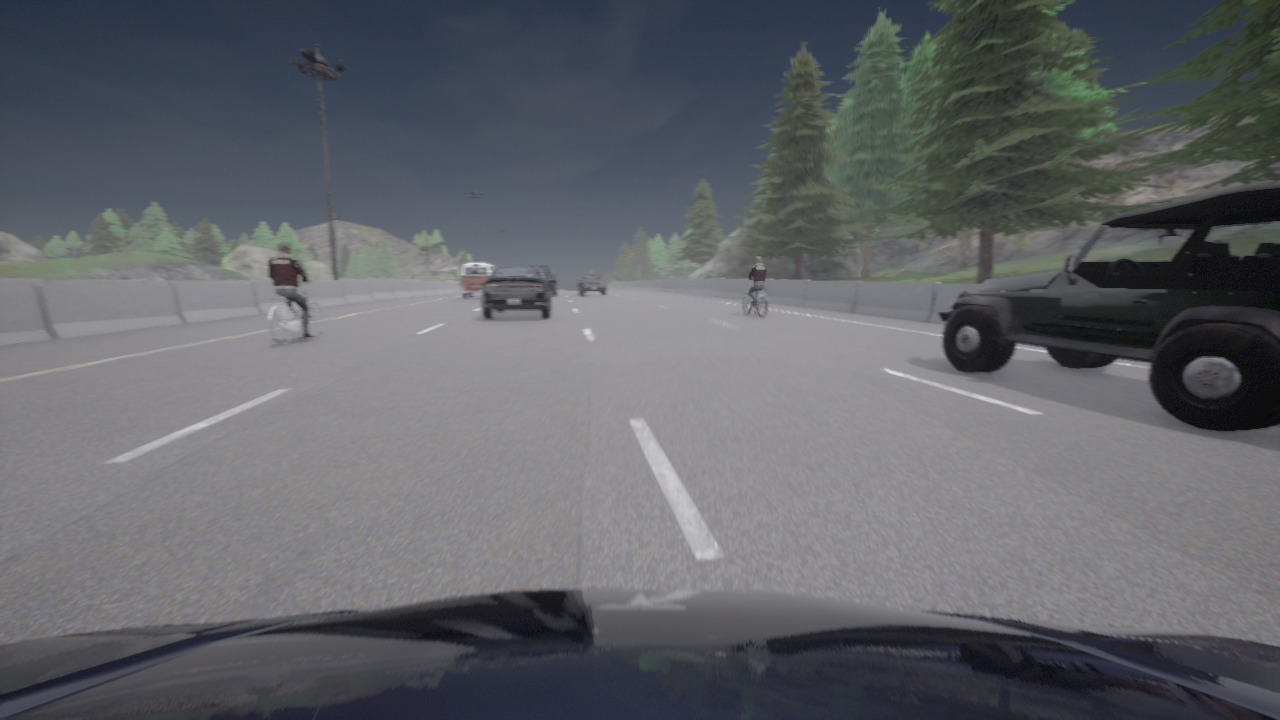cyclist: (0, 588, 1279, 719), (939, 183, 1279, 431), (481, 265, 554, 318), (268, 281, 322, 345), (460, 262, 495, 298), (527, 264, 557, 295), (743, 281, 767, 316), (578, 273, 606, 295)
